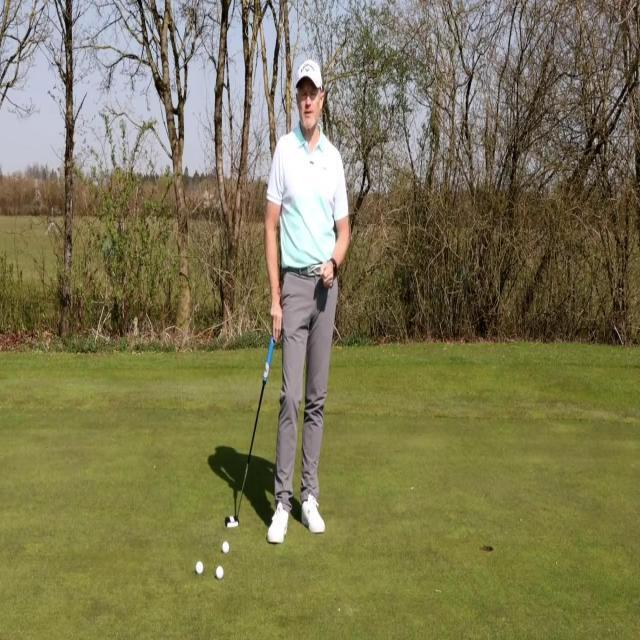ClubHead: (220, 495, 252, 534)
GolfBall: (208, 562, 228, 582), (194, 556, 208, 578), (220, 536, 232, 558)
